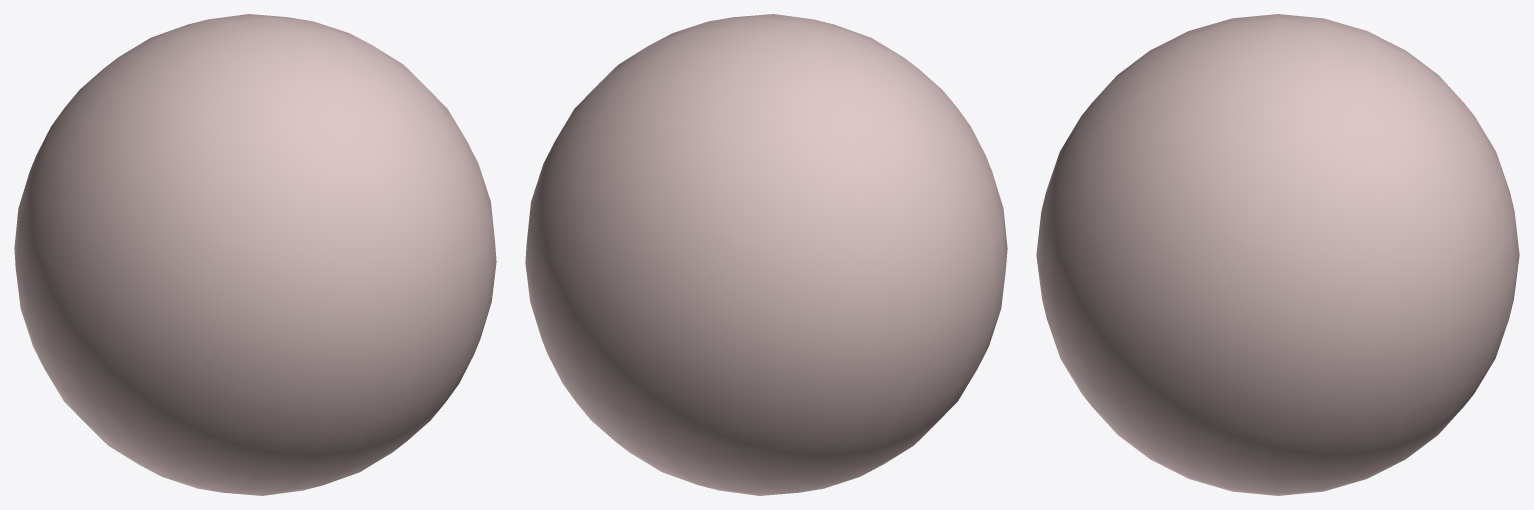
File: loading.gltf
3 views of the same model, side by side, from view 1: azimuth 30°, elevation 25°; view 2: azimuth 150°, elevation 25°; view 3: azimuth 270°, elevation 25° (orthographic).
Parts seen in each view (by area): view 1: Sphere; view 2: Sphere; view 3: Sphere.
Boxes of the visible parts, x1,y1,x2,y2 form: Sphere: (14, 14, 496, 495); Sphere: (525, 14, 1007, 495); Sphere: (1036, 14, 1519, 495).
Size of what is drawn, in the model's own units: 500 by 500 by 500.
